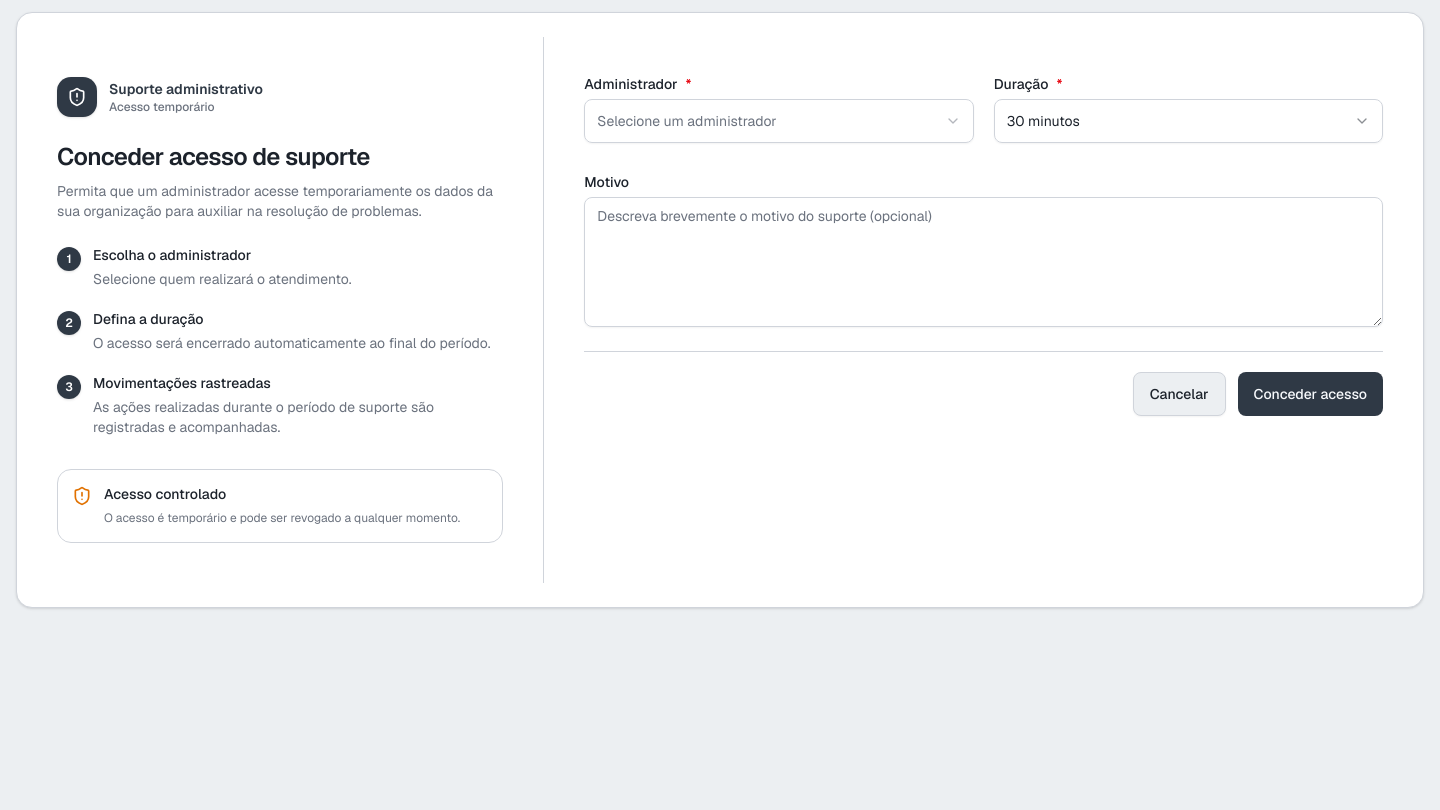
Scenario: AcessoSuporteFormConceder › sem administrador, mostra o erro de validação e não abre a confirmação nem envia
Click the button "Conceder acesso" at (1310, 394), box [1238,372,1383,416]
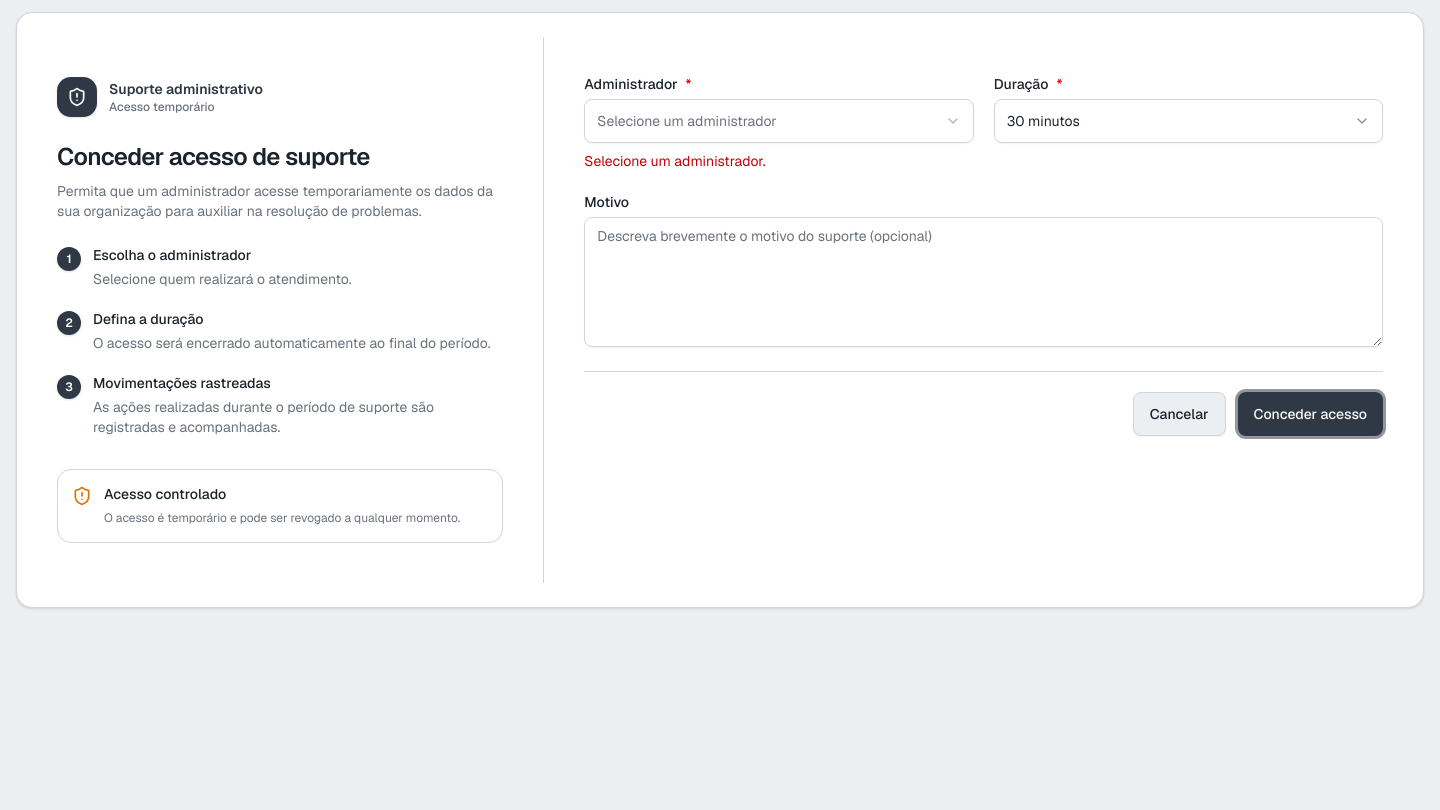
Check: the text "Selecione um administrador." is shown, box [584,152,766,170]
